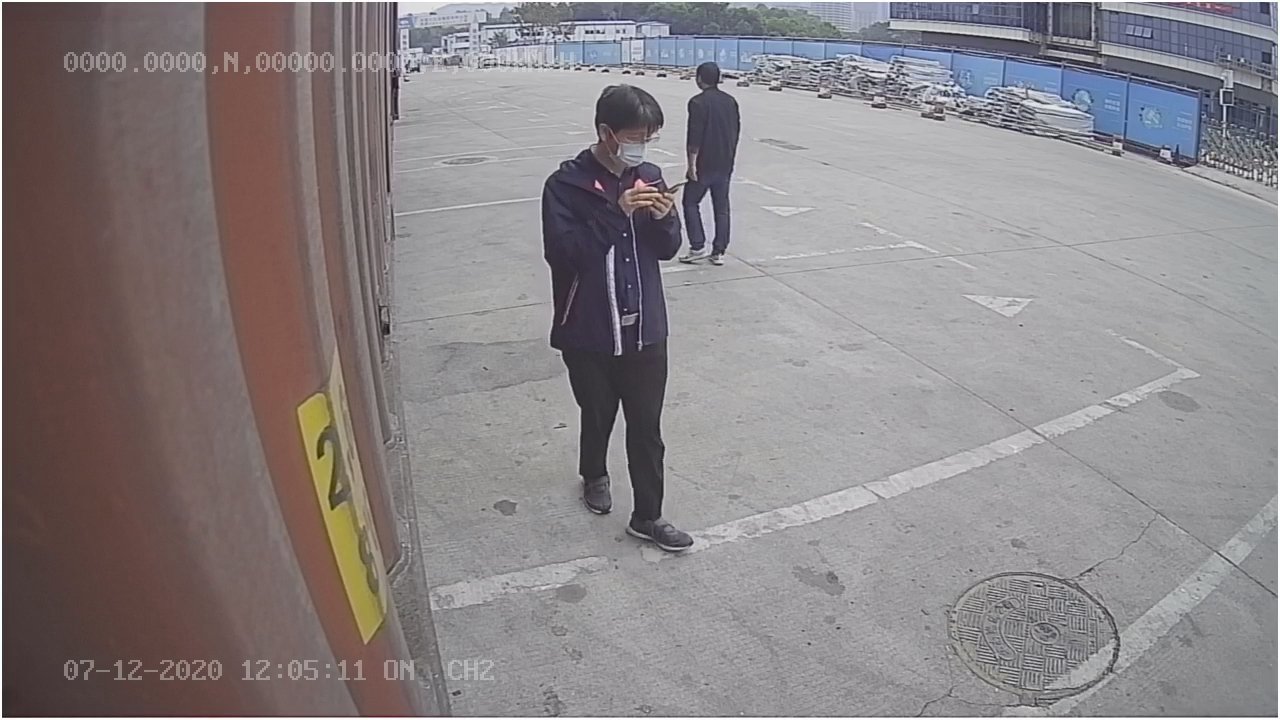person: (530, 87, 691, 557)
